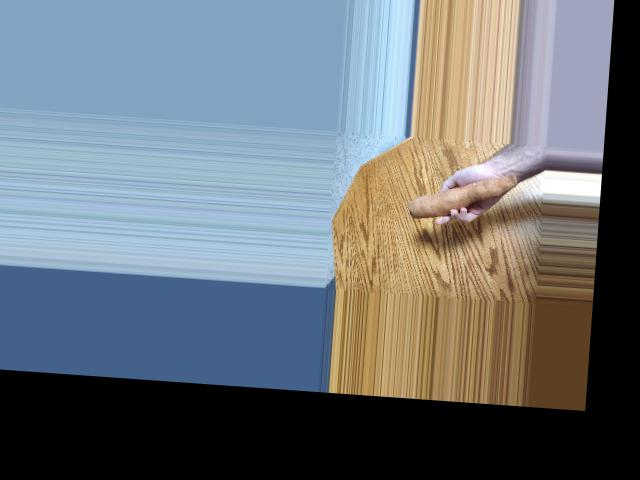sweet_potato: (406, 164, 519, 227)
